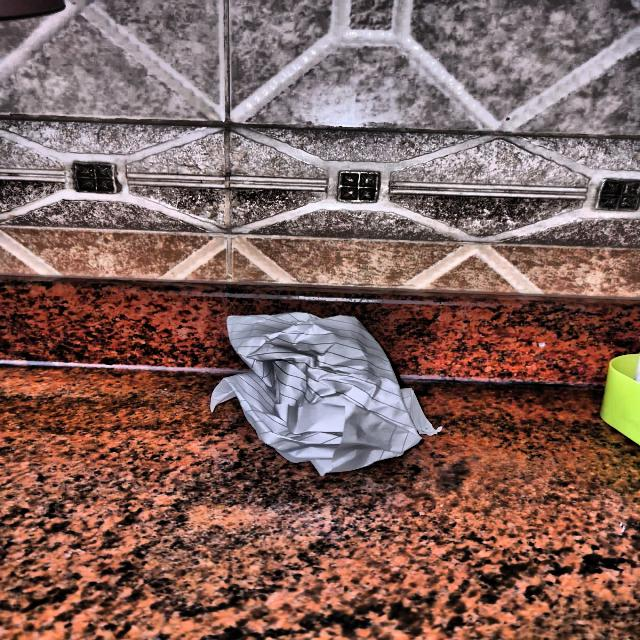Paper: (203, 299, 438, 467)
